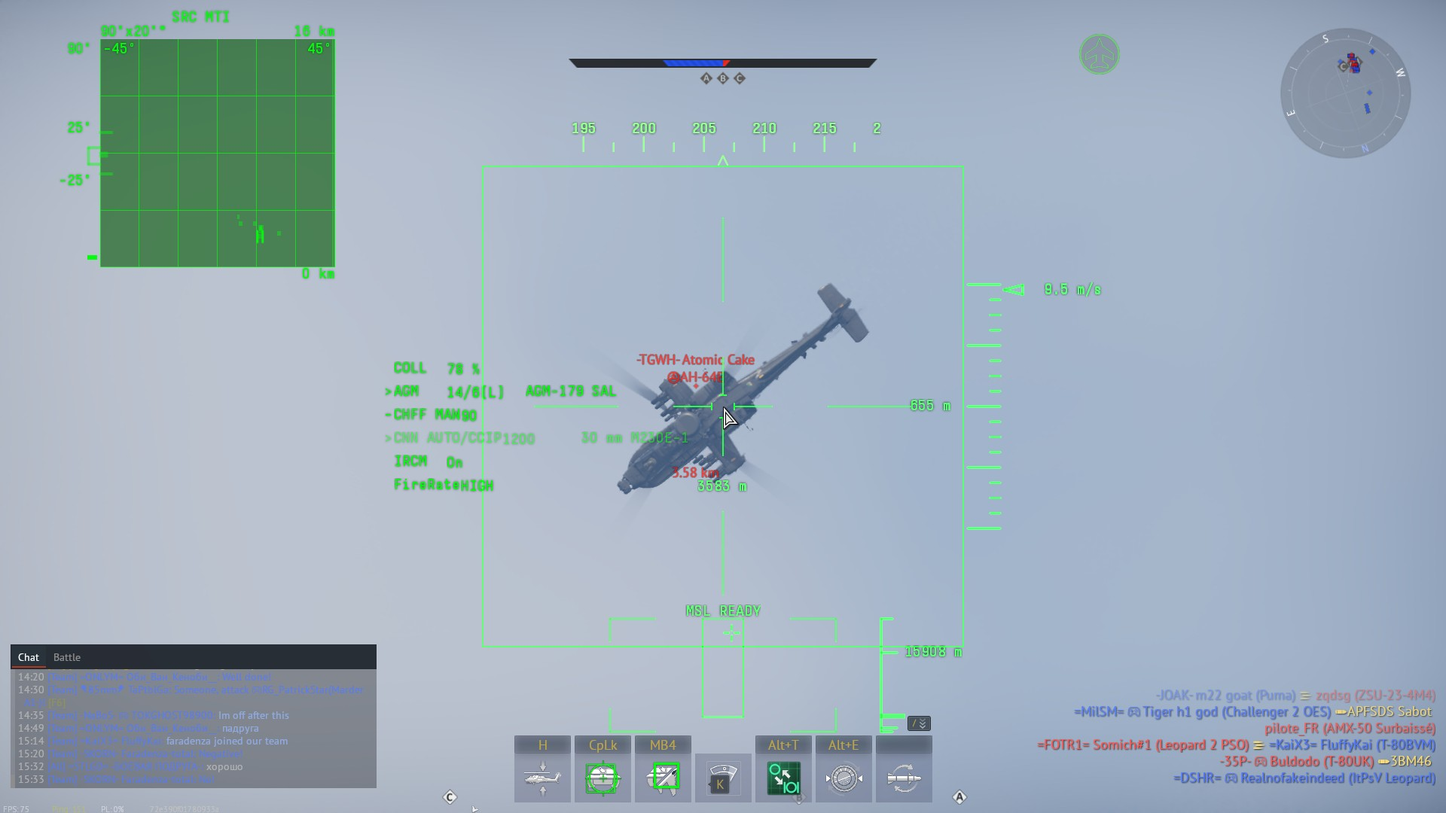ah64: (613, 283, 868, 495)
